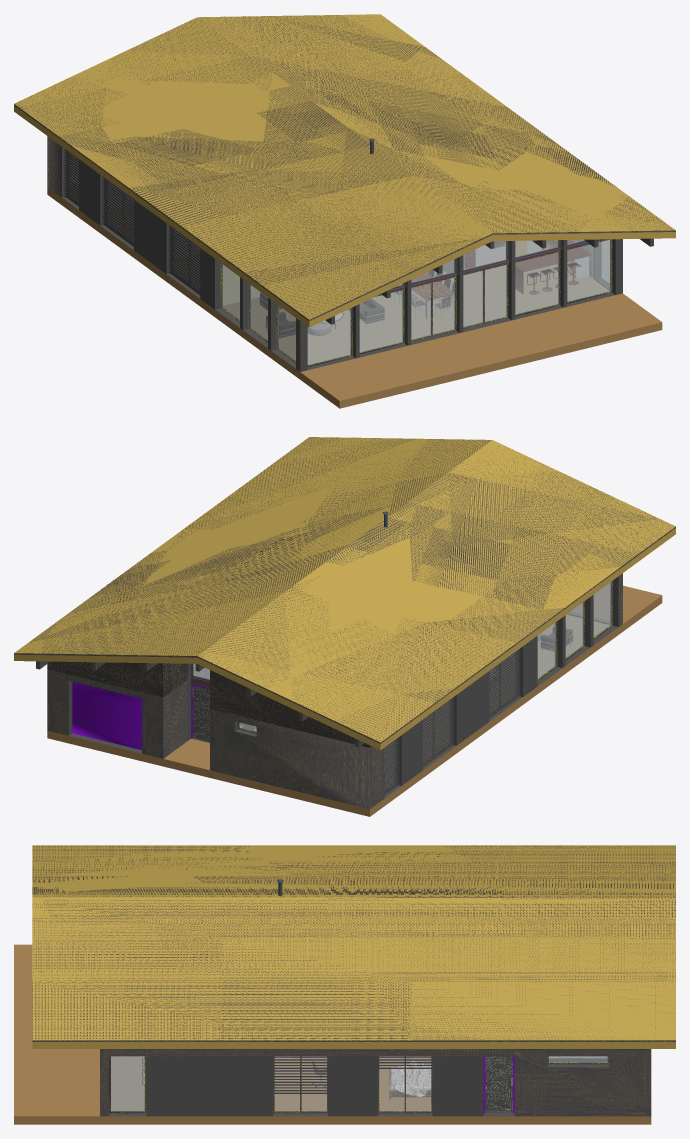
3 renders of one model, top to bottom at view 1: azimuth 30°, elevation 25°; view 2: azimuth 150°, elevation 25°; view 3: azimuth 270°, elevation 25°, orthographic. The views are drawn at different scales.
Parts seen in each view (by area): view 1: building_35, building_81, building_12, building_50, building_20, building_57, building_4, building_82, building_3, building_13, building_24; view 2: building_35, building_81, building_12, building_50, building_36, building_1, building_20, building_82, building_57; view 3: building_35, building_81, building_12, building_50, building_20, building_55, building_57, building_82, building_3, building_61.
Boxes of the visible parts, left/top/right/bottom form: building_35: left=14, top=14, right=675, bottom=327; building_81: left=15, top=15, right=671, bottom=318; building_12: left=14, top=104, right=675, bottom=371; building_50: left=47, top=136, right=662, bottom=408; building_20: left=69, top=154, right=610, bottom=364; building_57: left=223, top=264, right=608, bottom=364; building_4: left=411, top=240, right=591, bottom=318; building_82: left=14, top=106, right=674, bottom=326; building_3: left=223, top=240, right=593, bottom=305; building_13: left=260, top=293, right=384, bottom=337; building_24: left=476, top=241, right=588, bottom=278; building_35: left=14, top=437, right=675, bottom=750; building_81: left=30, top=437, right=675, bottom=741; building_12: left=14, top=527, right=675, bottom=809; building_50: left=47, top=577, right=662, bottom=816; building_36: left=36, top=661, right=371, bottom=747; building_1: left=72, top=681, right=209, bottom=749; building_20: left=193, top=582, right=611, bottom=789; building_82: left=14, top=531, right=675, bottom=748; building_57: left=538, top=614, right=609, bottom=677; building_35: left=32, top=845, right=675, bottom=1048; building_81: left=32, top=845, right=675, bottom=1039; building_12: left=32, top=1040, right=675, bottom=1116; building_50: left=14, top=944, right=651, bottom=1124; building_20: left=111, top=1056, right=607, bottom=1111; building_55: left=275, top=1058, right=430, bottom=1110; building_57: left=111, top=1056, right=144, bottom=1110; building_82: left=32, top=1042, right=675, bottom=1048; building_3: left=389, top=1056, right=607, bottom=1096; building_61: left=485, top=1056, right=512, bottom=1111.
Bounding box in the file's own units: 15 × 5.59 × 21.53.
